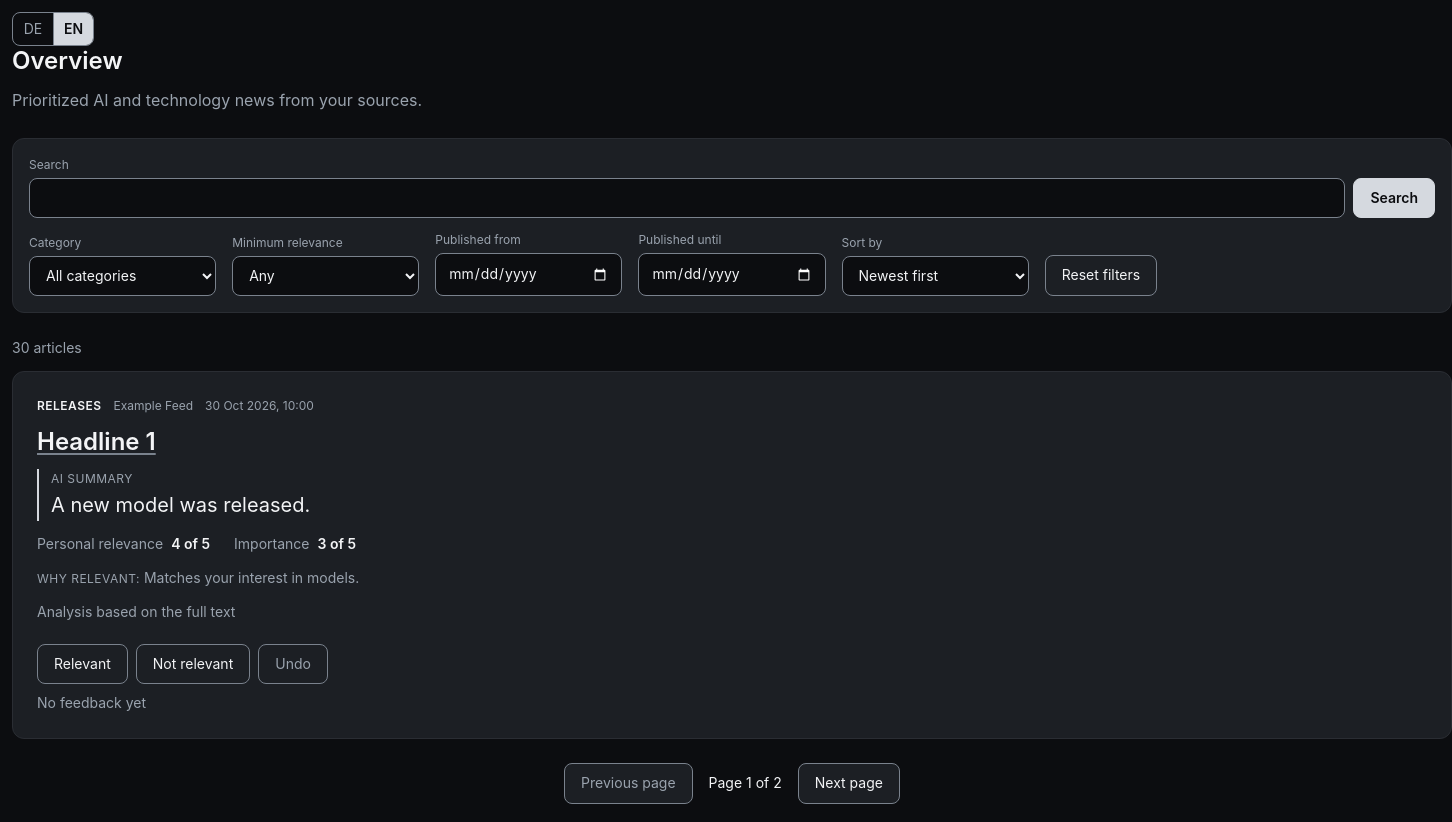
search, filters, sorting, and pages › pages through results; only the first page has a lead story
The width and height of the screenshot is (1452, 822).
Check: the element "Headline 1" is shown, box [12,371,1451,739]
Check: the text "Page 1 of 2" is shown, box [709,772,782,795]
Click the button "Next page".
click(849, 784)  # box [798,764,900,804]
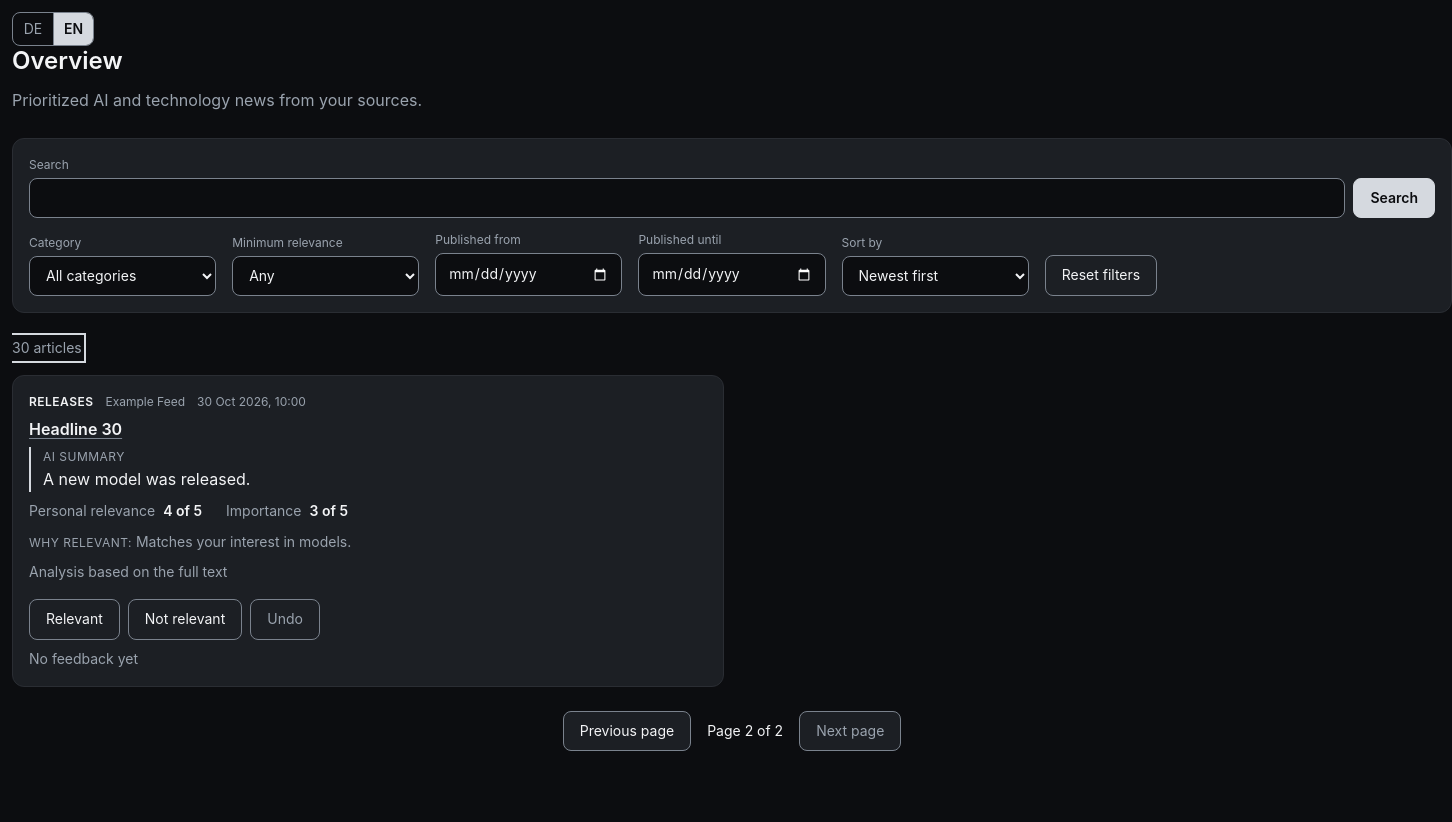
Check: the text "Page 2 of 2" is shown, box [707,720,783,742]
